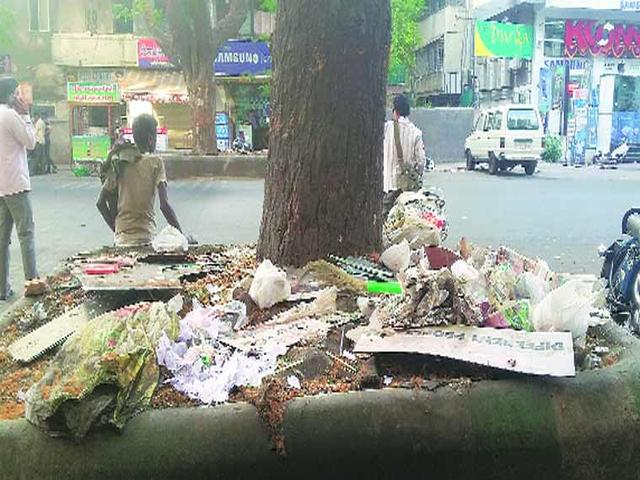garbage: (59, 260, 473, 379)
